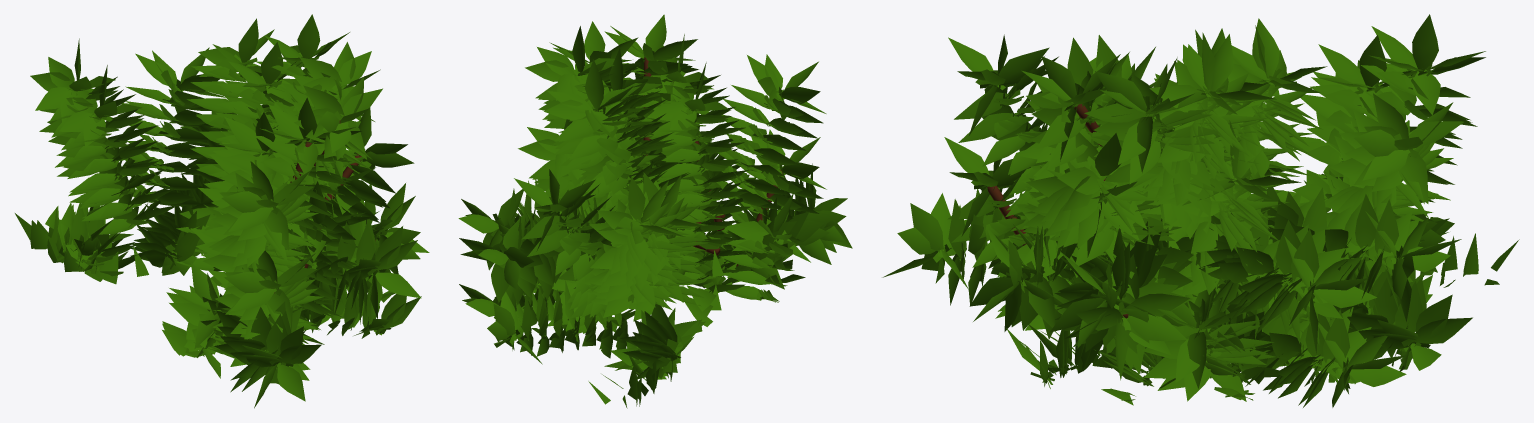
The model's file is New bush 2.fbx.
3 views of the same model, side by side, from view 1: azimuth 30°, elevation 25°; view 2: azimuth 150°, elevation 25°; view 3: azimuth 270°, elevation 25° (orthographic). The views are drawn at different scales.
Visible parts, largest first — view 1: pasted__pasted__polySurface2065; view 2: pasted__pasted__polySurface2065; view 3: pasted__pasted__polySurface2065.
Boxes of the visible parts, bbox=[...] form: pasted__pasted__polySurface2065: bbox=[15, 14, 429, 408]; pasted__pasted__polySurface2065: bbox=[458, 14, 852, 408]; pasted__pasted__polySurface2065: bbox=[882, 14, 1519, 407].
Size of the model in its own units: 1.2 by 1.13 by 1.89.
